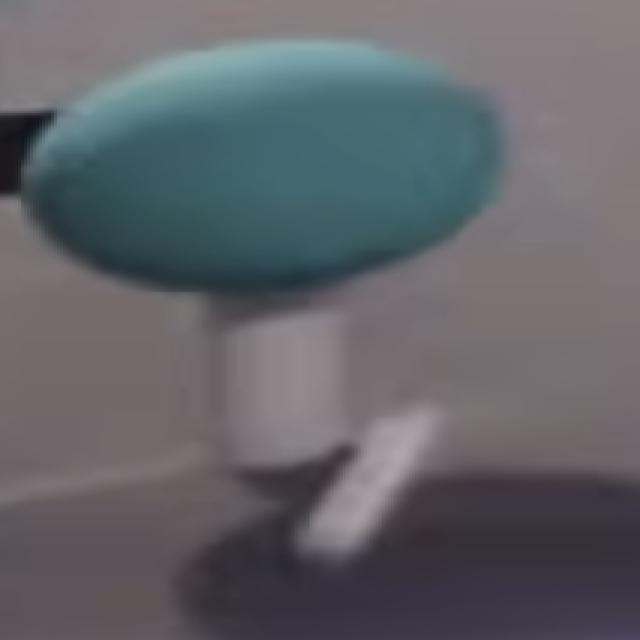Algae: (18, 37, 508, 296)
Coral: (206, 294, 344, 470)
